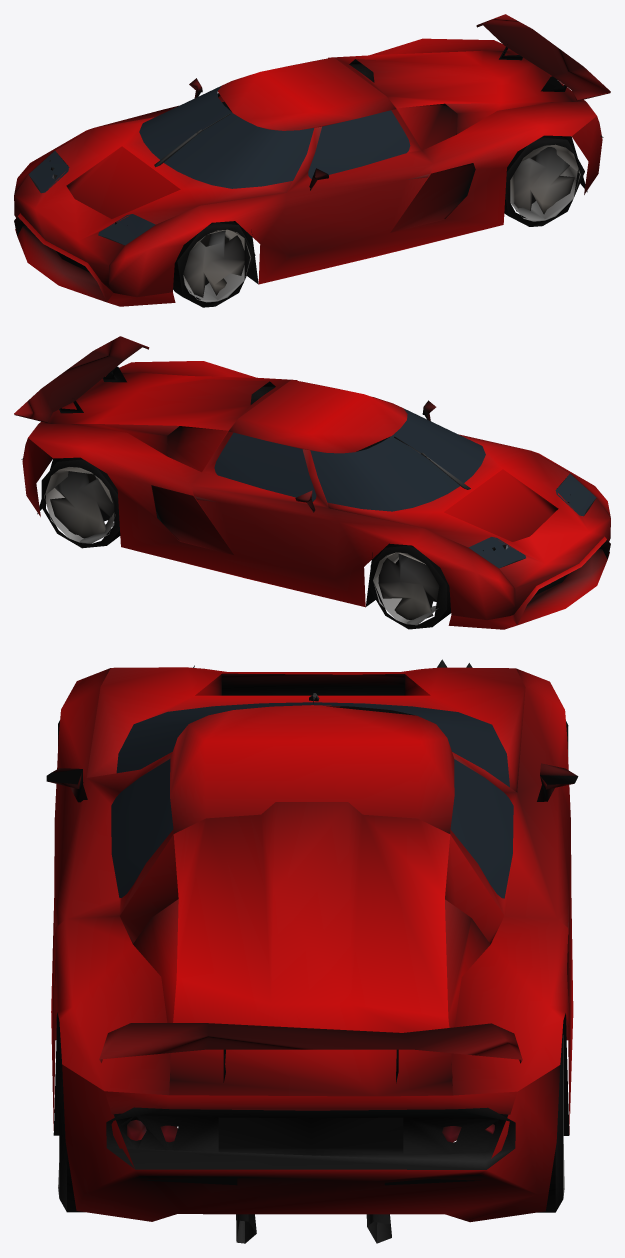
The model's file is sport.glb.
3 renders of one model, top to bottom at view 1: azimuth 30°, elevation 25°; view 2: azimuth 150°, elevation 25°; view 3: azimuth 270°, elevation 25°, orthographic. The views are drawn at different scales.
Visible parts, largest first — view 1: sport; view 2: sport; view 3: sport.
Boxes of the visible parts, x1,y1,x2,y2 form: sport: (14, 14, 610, 307); sport: (14, 336, 610, 629); sport: (46, 659, 578, 1243).
Bounding box in the file's own units: 4.56 × 1.22 × 2.03.
